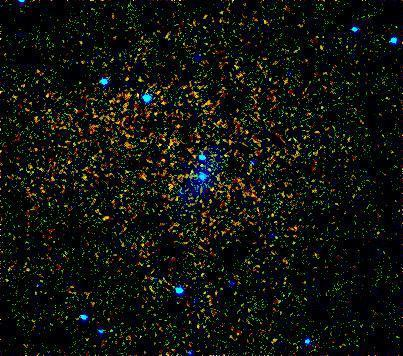star: (197, 172, 227, 202)
